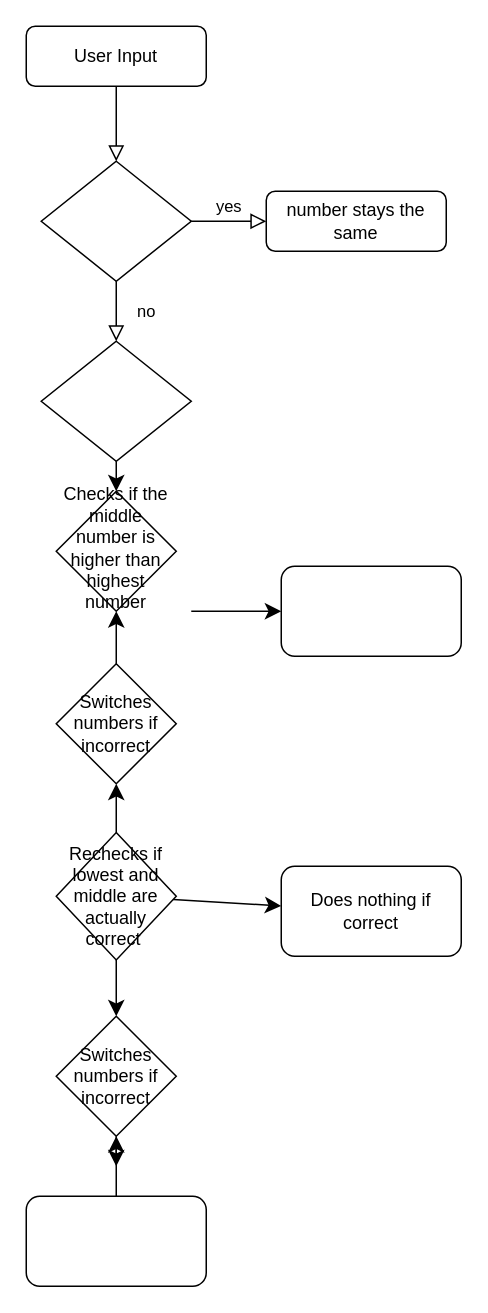
Some shapes in this 488 by 1313 pixel diagram are drawn without their labels. Here are the shapes that lost their labels. From the top down, the centre of each, then its label:
At point 115,220: "Checks to see if the lowest number is higher than the middle number".
At point 115,400: "switches lowest and middle number".
At point 370,610: "If not numbers stay the same".
